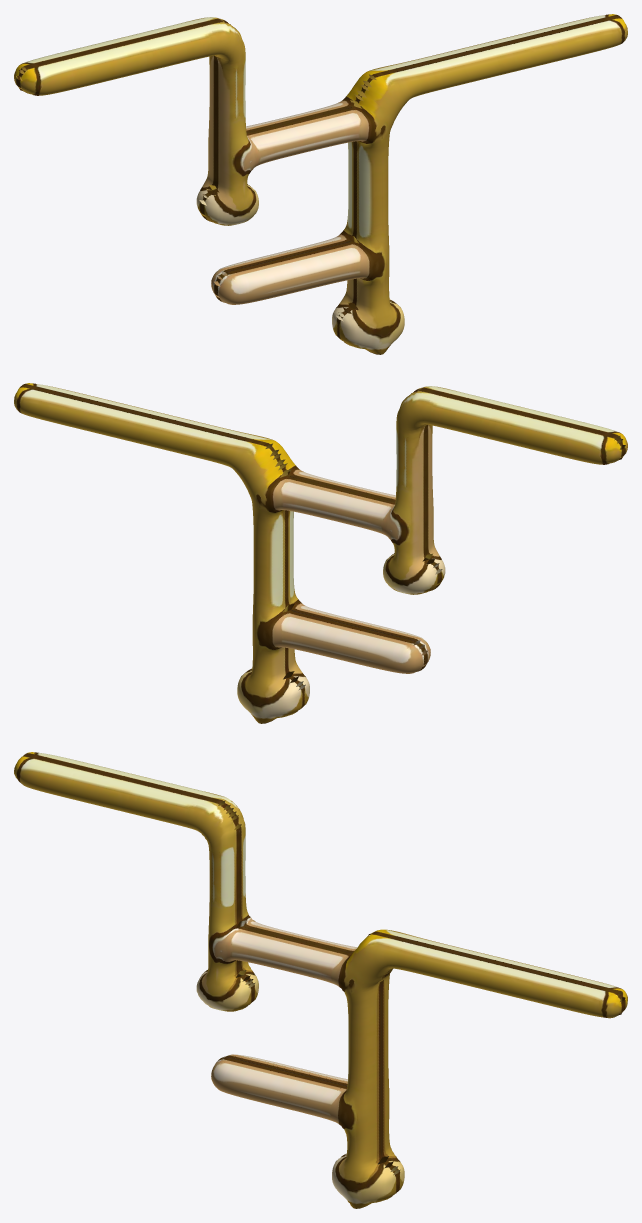
File: junction_pipes.glb
The picture shows the model from 3 angles, top to bottom: view 1: azimuth 30°, elevation 25°; view 2: azimuth 150°, elevation 25°; view 3: azimuth 330°, elevation 25°; orthographic projection.
Visible parts, largest first — view 1: junction_pipes; view 2: junction_pipes; view 3: junction_pipes.
Part boxes in pixels (box(x1,y1,x2,y2)): junction_pipes: box(14, 14, 627, 354); junction_pipes: box(14, 383, 627, 723); junction_pipes: box(14, 752, 627, 1208).
Size of the model in its own units: 0.9889 by 0.5626 by 0.0945.
Materials: 1 (1 with a texture image).
